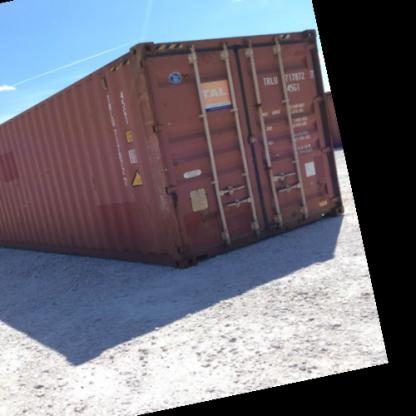Damage: (130, 38, 180, 259), (209, 215, 247, 241)
